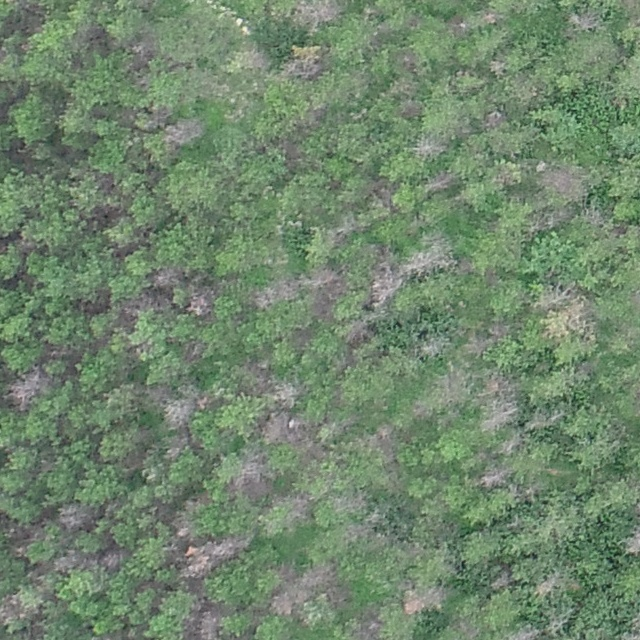unhealthy: (536, 283, 595, 340), (479, 371, 520, 431), (227, 450, 272, 497), (366, 249, 402, 307), (426, 367, 472, 412), (6, 365, 49, 410), (405, 237, 454, 274), (539, 165, 585, 198), (401, 583, 446, 616), (292, 0, 344, 28), (264, 412, 306, 446), (162, 117, 205, 150), (295, 561, 336, 594), (253, 275, 301, 303), (283, 47, 325, 79), (305, 264, 346, 295), (214, 533, 255, 563), (180, 544, 215, 579), (55, 501, 96, 530), (527, 205, 571, 231), (281, 493, 314, 527), (161, 395, 194, 428), (188, 607, 220, 640), (235, 44, 272, 71), (331, 489, 369, 515), (369, 423, 398, 457), (523, 408, 564, 432), (343, 517, 380, 543), (348, 612, 383, 639), (566, 7, 602, 32), (413, 133, 447, 159), (418, 332, 449, 359), (52, 549, 84, 574), (477, 466, 510, 490), (151, 265, 183, 289), (268, 590, 295, 618), (186, 290, 213, 318), (424, 170, 456, 193), (272, 382, 299, 409), (344, 319, 372, 345), (129, 34, 158, 59), (0, 592, 20, 626), (463, 332, 491, 356), (535, 572, 564, 595), (387, 76, 417, 96), (146, 384, 173, 406), (496, 433, 523, 454), (583, 205, 607, 227), (99, 549, 124, 570), (482, 109, 506, 130), (447, 15, 469, 37), (490, 569, 513, 590), (625, 525, 639, 558), (507, 627, 540, 640), (488, 56, 507, 75), (480, 9, 500, 26), (630, 283, 640, 313), (131, 0, 156, 10), (616, 630, 639, 640)
